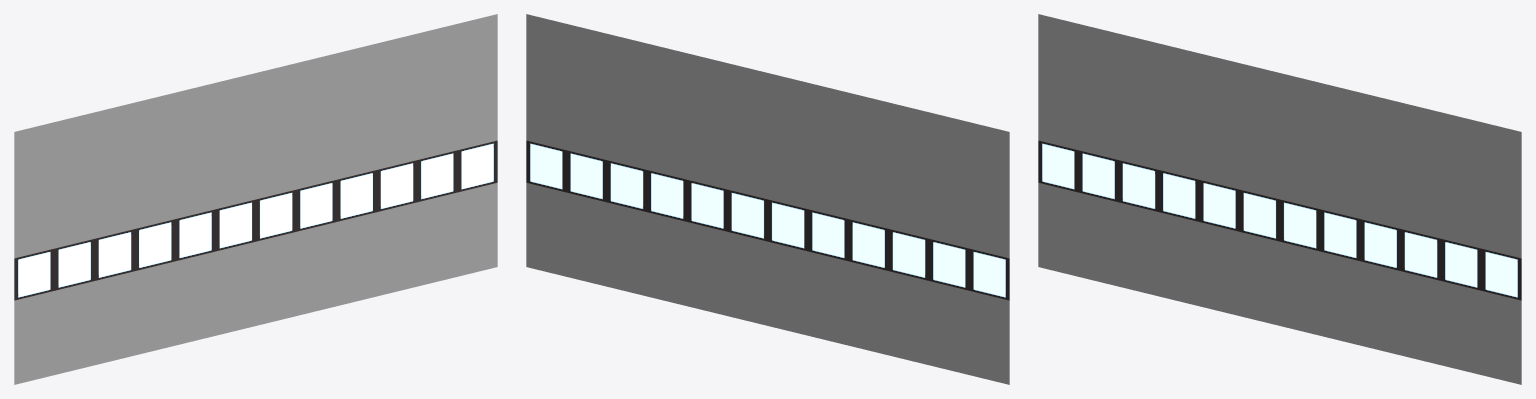
Rendered from wallv01.gltf.
3 renders of one model, left to right at view 1: azimuth 30°, elevation 25°; view 2: azimuth 150°, elevation 25°; view 3: azimuth 330°, elevation 25°, orthographic.
Visible parts, largest first — view 1: wallPlane; view 2: wallPlane; view 3: wallPlane.
Boxes of the visible parts, x1,y1,x2,y2 form: wallPlane: (14,14,497,384); wallPlane: (526,14,1009,384); wallPlane: (1038,14,1521,384).
Bounding box in the file's own units: 40 × 20 × 6.52e-06.
